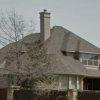Chimney: (32, 7, 52, 40)
